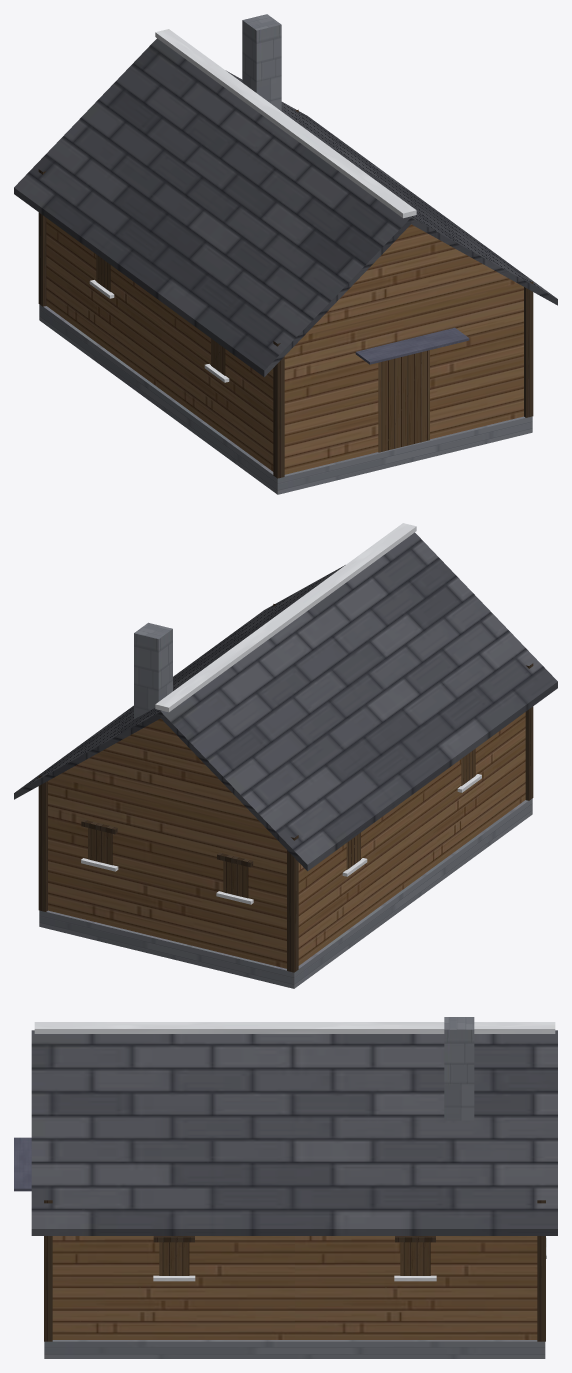
File: ae_snow_wood_large_hall_lod1.glb
The picture shows the model from 3 angles, top to bottom: view 1: azimuth 30°, elevation 25°; view 2: azimuth 150°, elevation 25°; view 3: azimuth 270°, elevation 25°; orthographic projection. The views are drawn at different scales.
Visible parts, largest first — view 1: ae_snow_wood_large_hall_lod1; view 2: ae_snow_wood_large_hall_lod1; view 3: ae_snow_wood_large_hall_lod1.
Boxes of the visible parts, x1=… form: ae_snow_wood_large_hall_lod1: x1=14, y1=14, x2=557, y2=494; ae_snow_wood_large_hall_lod1: x1=14, y1=523, x2=557, y2=988; ae_snow_wood_large_hall_lod1: x1=14, y1=1017, x2=557, y2=1358.
Bounding box in the file's own units: 6.5 × 6 × 9.93.
1 material, 1 textured.
